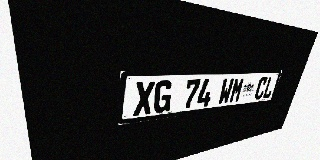4: (196, 79, 215, 108)
7: (182, 79, 201, 110)
C: (253, 77, 269, 100)
G: (152, 80, 174, 114)
L: (262, 76, 276, 99)
M: (229, 78, 245, 103)
W: (217, 78, 235, 105)
X: (133, 81, 155, 116)
